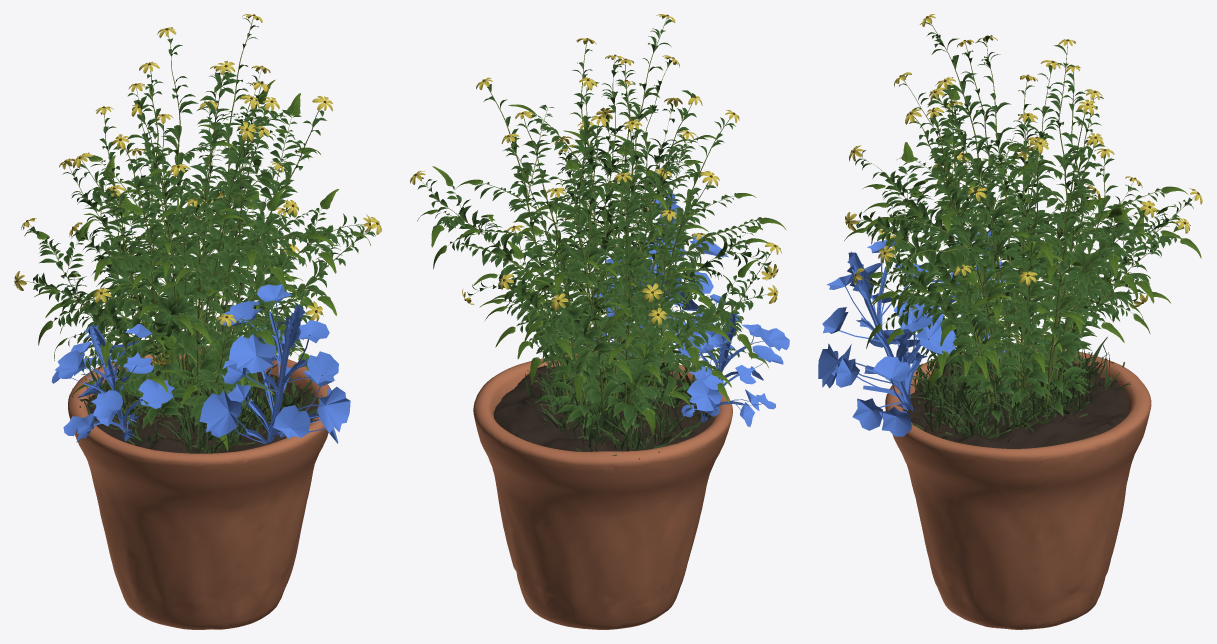
File: planter-a.glb
3 views of the same model, side by side, from view 1: azimuth 30°, elevation 25°; view 2: azimuth 150°, elevation 25°; view 3: azimuth 270°, elevation 25° (orthographic). The views are drawn at different scales.
Visible parts, largest first — view 1: SmallTerracottaPot, Leaf3_RudbeckiaLaciniata_Mat003, Leaf2_RudbeckiaLaciniata_Mat003, Bluepopper_05, Stem_RudbeckiaLaciniata_Mat003, Leaf1_RudbeckiaLaciniata_Mat001, Bluepopper_03, Grass_1 (17), Petal2_RudbeckiaLaciniata_Mat003, Grass_1 (16), Petal1_RudbeckiaLaciniata_Mat003; view 2: SmallTerracottaPot, Leaf3_RudbeckiaLaciniata_Mat003, Leaf2_RudbeckiaLaciniata_Mat003, Stem_RudbeckiaLaciniata_Mat003, Leaf1_RudbeckiaLaciniata_Mat001, Bluepopper_03, Grass_1 (16), Petal2_RudbeckiaLaciniata_Mat003, Grass_1 (17), Petal1_RudbeckiaLaciniata_Mat003, Bluepopper_05; view 3: SmallTerracottaPot, Leaf3_RudbeckiaLaciniata_Mat003, Leaf2_RudbeckiaLaciniata_Mat003, Bluepopper_05, Stem_RudbeckiaLaciniata_Mat003, Leaf1_RudbeckiaLaciniata_Mat001, Grass_1 (17), Grass_1 (16), Petal2_RudbeckiaLaciniata_Mat003, Petal1_RudbeckiaLaciniata_Mat003.
Boxes of the visible parts, x1,y1,x2,y2 form: SmallTerracottaPot: [68, 345, 331, 629]; Leaf3_RudbeckiaLaciniata_Mat003: [24, 33, 374, 428]; Leaf2_RudbeckiaLaciniata_Mat003: [27, 18, 375, 425]; Bluepopper_05: [199, 284, 350, 443]; Stem_RudbeckiaLaciniata_Mat003: [25, 17, 368, 417]; Leaf1_RudbeckiaLaciniata_Mat001: [28, 79, 370, 450]; Bluepopper_03: [51, 324, 174, 442]; Grass_1 (17): [137, 364, 322, 453]; Petal2_RudbeckiaLaciniata_Mat003: [14, 14, 380, 364]; Grass_1 (16): [72, 350, 213, 449]; Petal1_RudbeckiaLaciniata_Mat003: [14, 14, 381, 324]; SmallTerracottaPot: [473, 354, 732, 629]; Leaf3_RudbeckiaLaciniata_Mat003: [426, 19, 771, 431]; Leaf2_RudbeckiaLaciniata_Mat003: [417, 29, 768, 429]; Stem_RudbeckiaLaciniata_Mat003: [422, 18, 771, 427]; Leaf1_RudbeckiaLaciniata_Mat001: [417, 104, 786, 434]; Bluepopper_03: [680, 294, 789, 426]; Grass_1 (16): [524, 370, 716, 459]; Petal2_RudbeckiaLaciniata_Mat003: [410, 14, 781, 325]; Grass_1 (17): [524, 342, 715, 439]; Petal1_RudbeckiaLaciniata_Mat003: [413, 14, 778, 319]; Bluepopper_05: [590, 193, 728, 362]; SmallTerracottaPot: [885, 348, 1151, 629]; Leaf3_RudbeckiaLaciniata_Mat003: [855, 22, 1191, 421]; Leaf2_RudbeckiaLaciniata_Mat003: [851, 32, 1193, 414]; Bluepopper_05: [818, 240, 956, 436]; Stem_RudbeckiaLaciniata_Mat003: [858, 23, 1194, 417]; Leaf1_RudbeckiaLaciniata_Mat001: [844, 89, 1201, 394]; Grass_1 (17): [910, 350, 1091, 444]; Grass_1 (16): [912, 337, 1130, 427]; Petal2_RudbeckiaLaciniata_Mat003: [849, 15, 1202, 307]; Petal1_RudbeckiaLaciniata_Mat003: [845, 14, 1200, 301].
Size of the model in its own units: 0.8689 by 1.47 by 0.8958.
11 materials, 8 textured.
